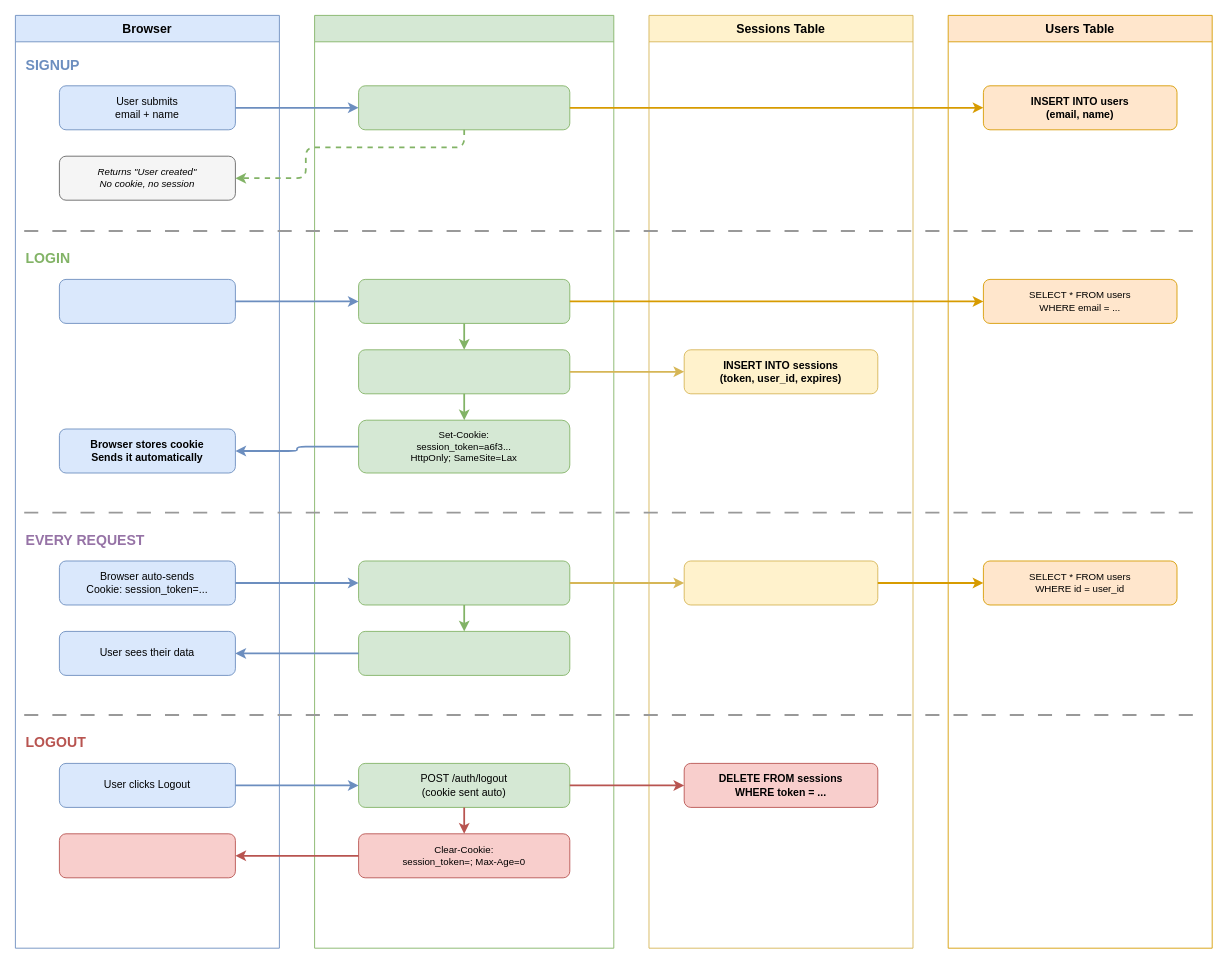
Image size: 1228x964. Some labels were removed from this diagram. The shapes that lost their labels are listed below. From the top down, each one's box as (x1, y1, x2, y2) in pixels, then its label:
(358, 85, 570, 130): POST /auth/signup {email, name}
(59, 279, 235, 323): User submits email
(358, 279, 570, 323): Find user by email
(358, 349, 570, 394): Generate random token secrets.token_hex(32)
(314, 15, 614, 948): FastAPI Server
(358, 560, 570, 605): Read cookie value
(683, 560, 878, 605): SELECT * FROM sessions WHERE token = ...
(358, 631, 570, 675): Return user data {name, email}
(59, 833, 235, 878): Cookie removed Session forgotten
